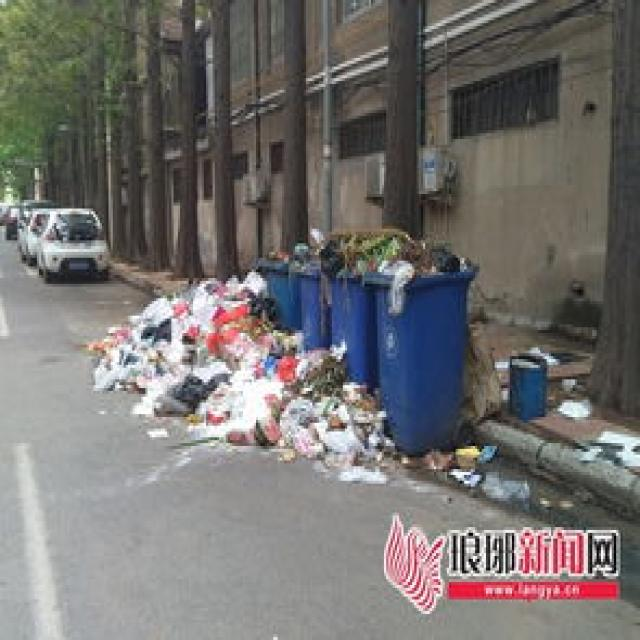garbage: (82, 263, 390, 478), (423, 443, 495, 487)
overflow: (364, 229, 473, 446), (319, 226, 373, 382), (288, 226, 328, 342), (256, 246, 295, 324)
